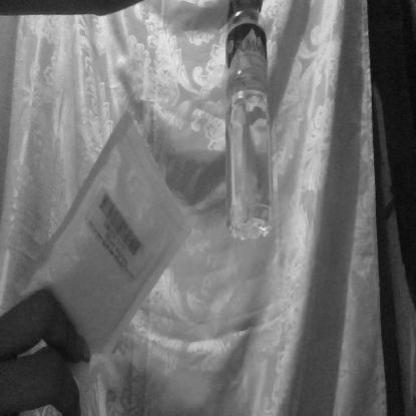Plastic Bottle: (217, 13, 313, 264)
